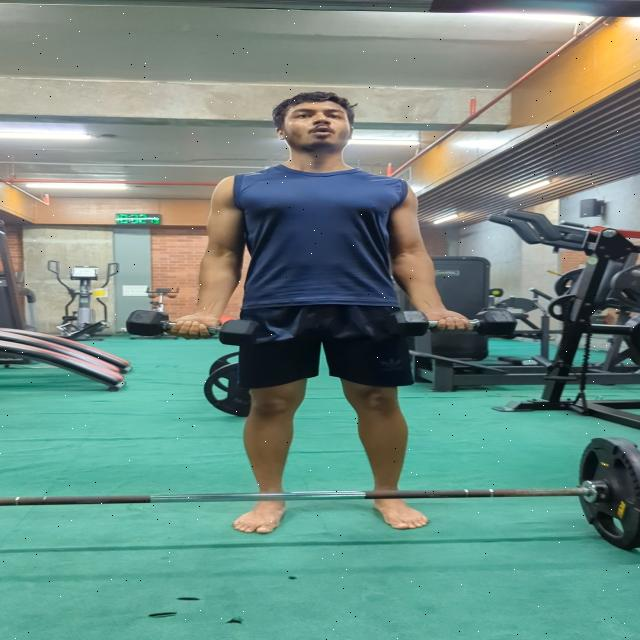Normal_DumbbellBicepCurls: (127, 81, 522, 542)
